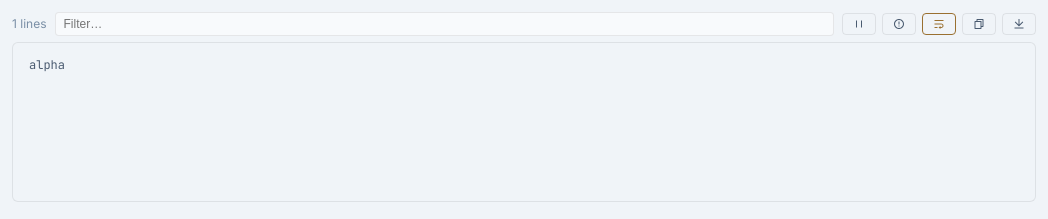
Test: StreamLog › falls back to execCommand when the clipboard API is unavailable (plain http)
Click the button named "Copy all": [979, 24] box 962,13 -> 996,35
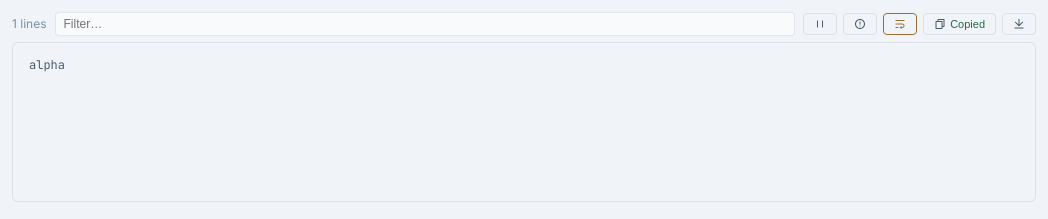
Now the text "Copied" is shown, box 950,18 -> 985,30
